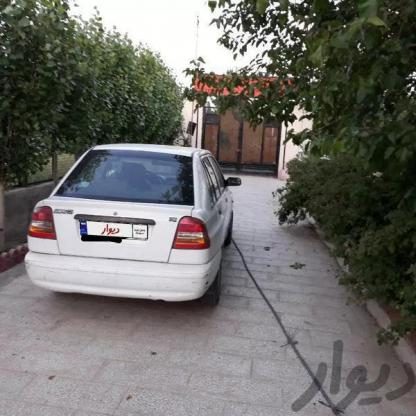Car: (19, 134, 249, 313)
